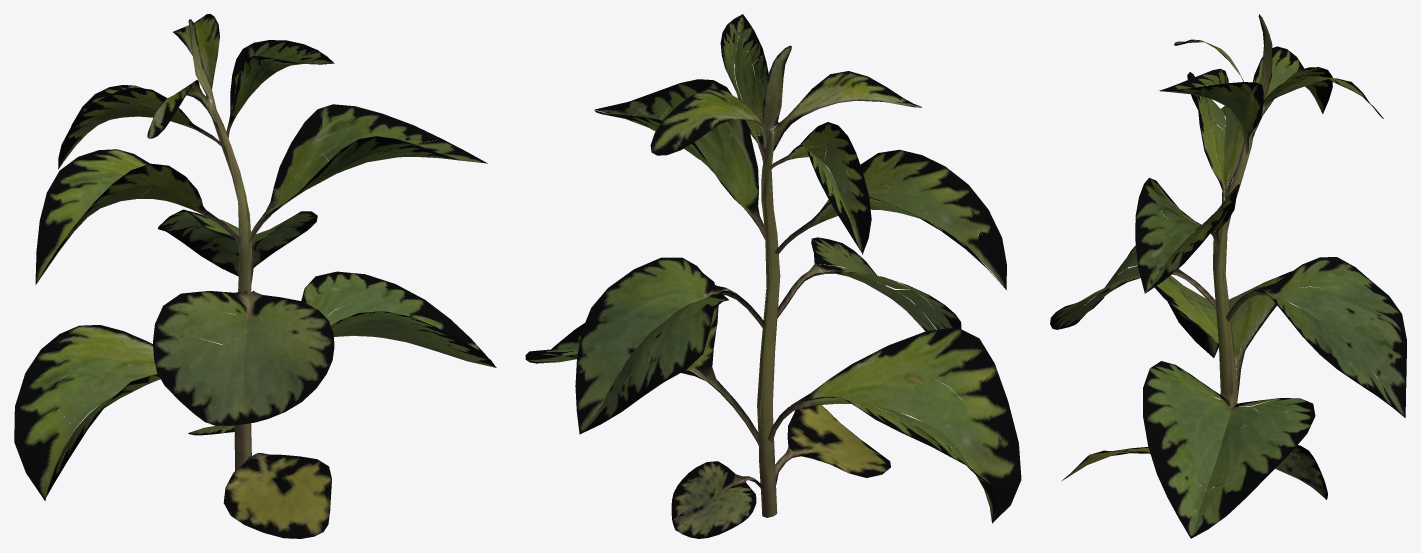
Rendered from nettle_plant_v3.glb.
3 renders of one model, left to right at view 1: azimuth 30°, elevation 25°; view 2: azimuth 150°, elevation 25°; view 3: azimuth 270°, elevation 25°, orthographic. The views are drawn at different scales.
Visible parts, largest first — view 1: lod0; view 2: lod0; view 3: lod0.
Boxes of the visible parts, bbox=[...] form: lod0: bbox=[14, 14, 496, 538]; lod0: bbox=[525, 14, 1021, 538]; lod0: bbox=[1050, 14, 1406, 538].
Size of what is drawn, in the model's own units: 0.0642 by 0.0626 by 0.0435.
Materials: 1 (1 with a texture image).
